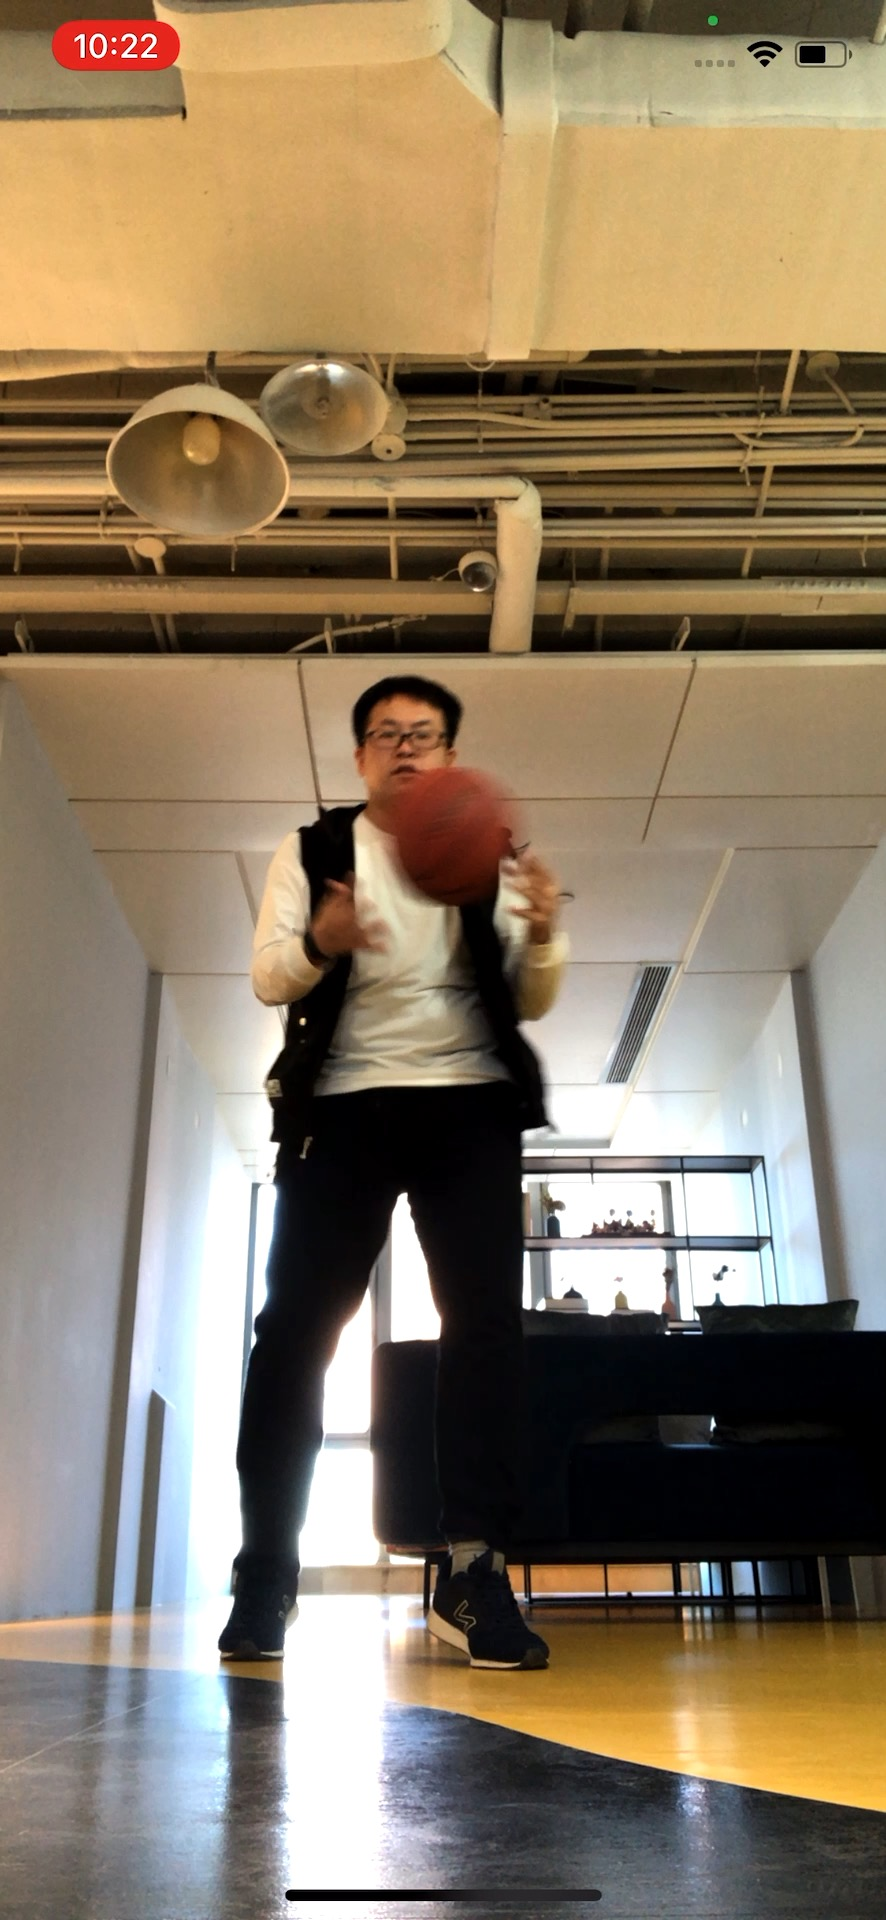ball: (396, 765, 531, 906)
